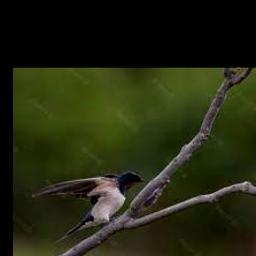Swallow: (32, 171, 146, 242)
